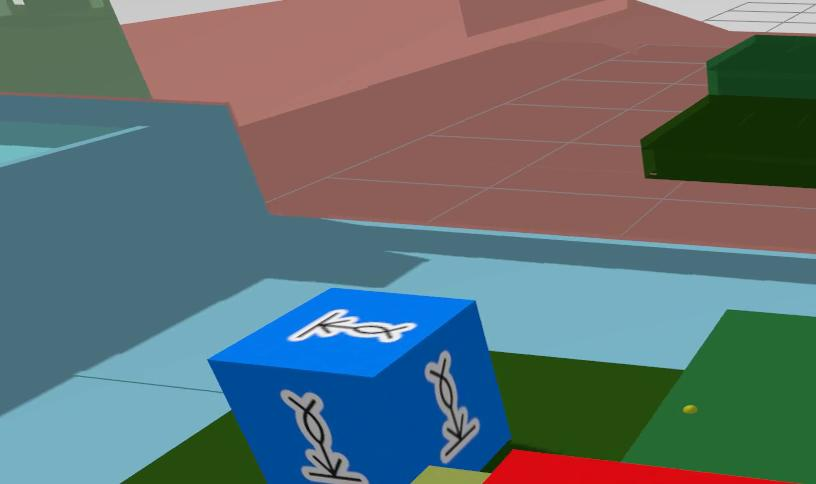KFS_FAKE: (481, 453, 786, 484)
KFS_REAL: (209, 288, 510, 484), (281, 391, 367, 484), (426, 351, 478, 463), (288, 309, 416, 342)
